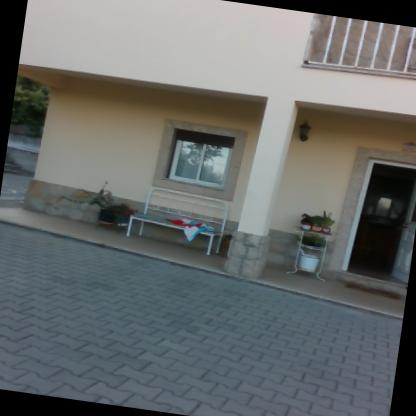open: (336, 152, 415, 290)
